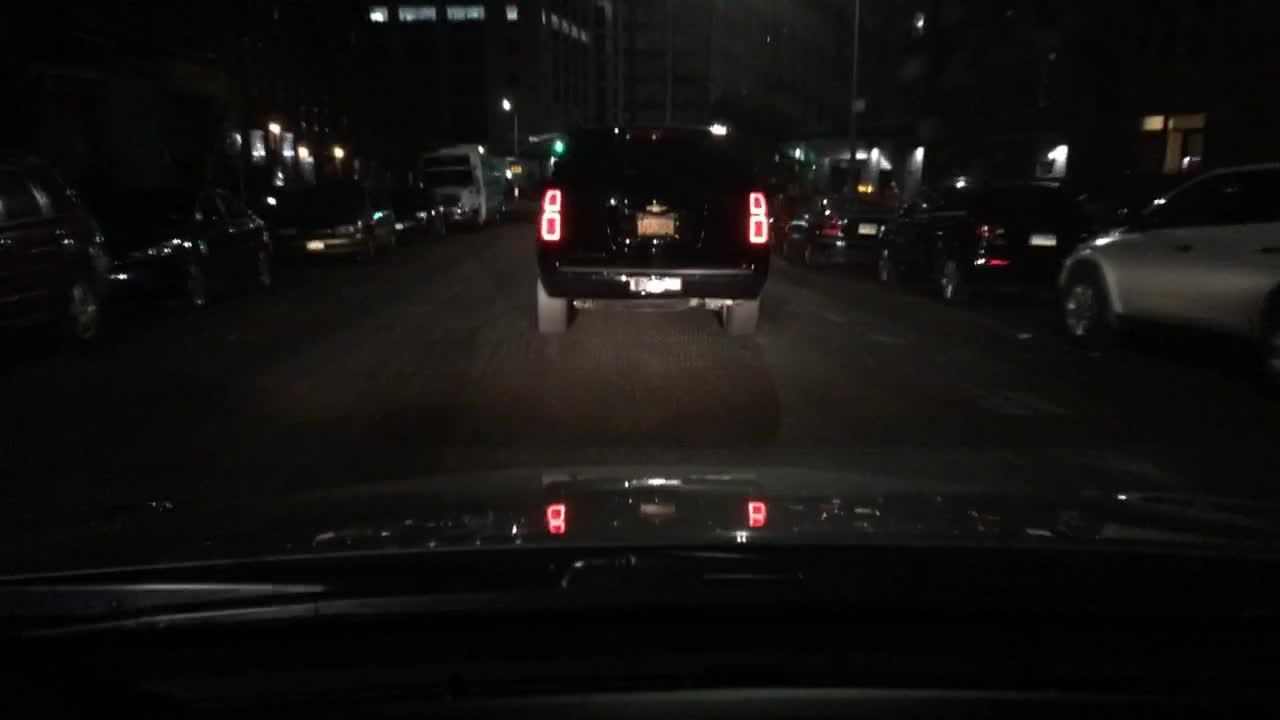chevrolet: (643, 199, 673, 214)
